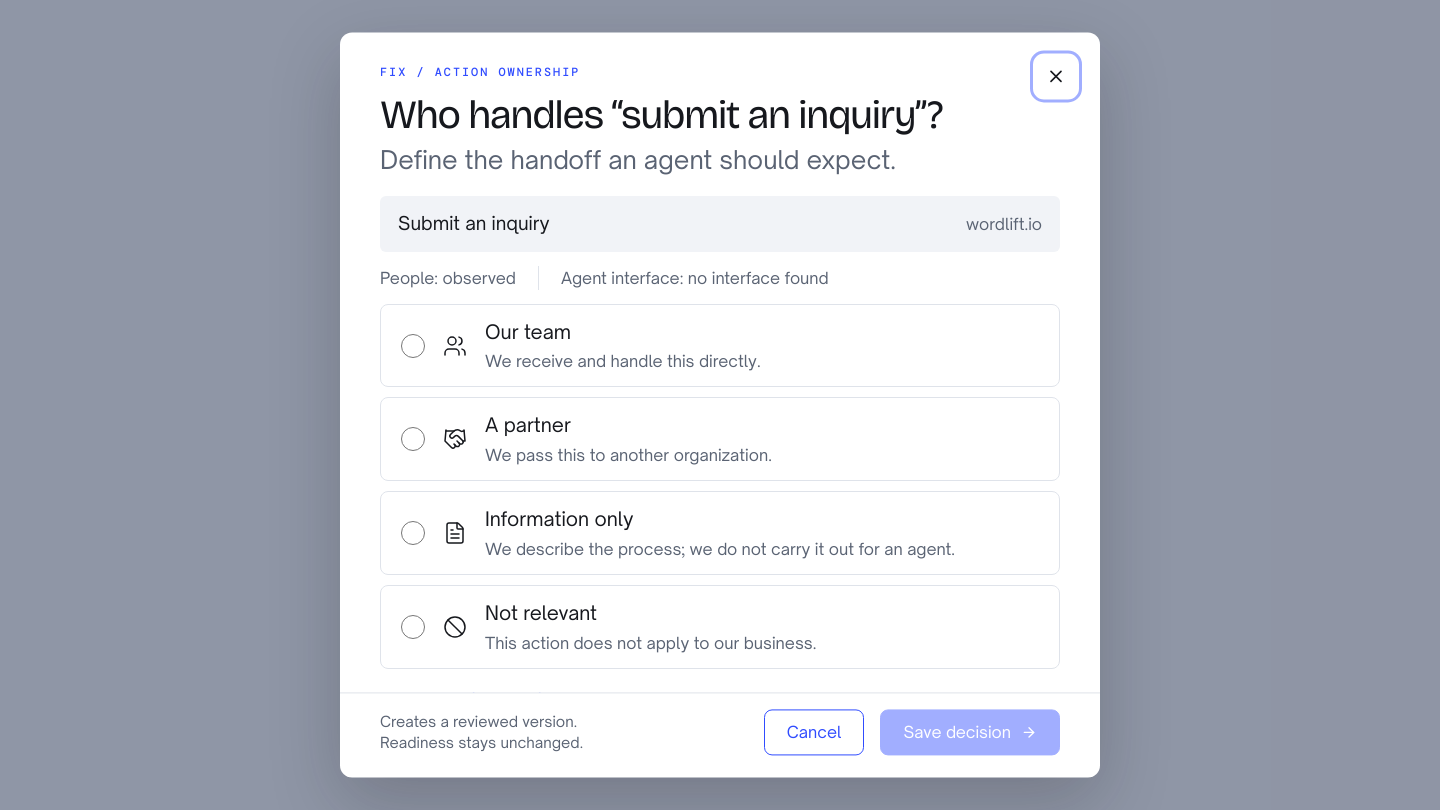
Test: action ownership › asks for the partner only when a partner is the answer, and requires the name
The image size is (1440, 810).
Expected: the field labelled "Partner name" is not shown
Click the radio button labelled "A partner We pass this to another organization." at point(413, 440), box [401,428,425,452]
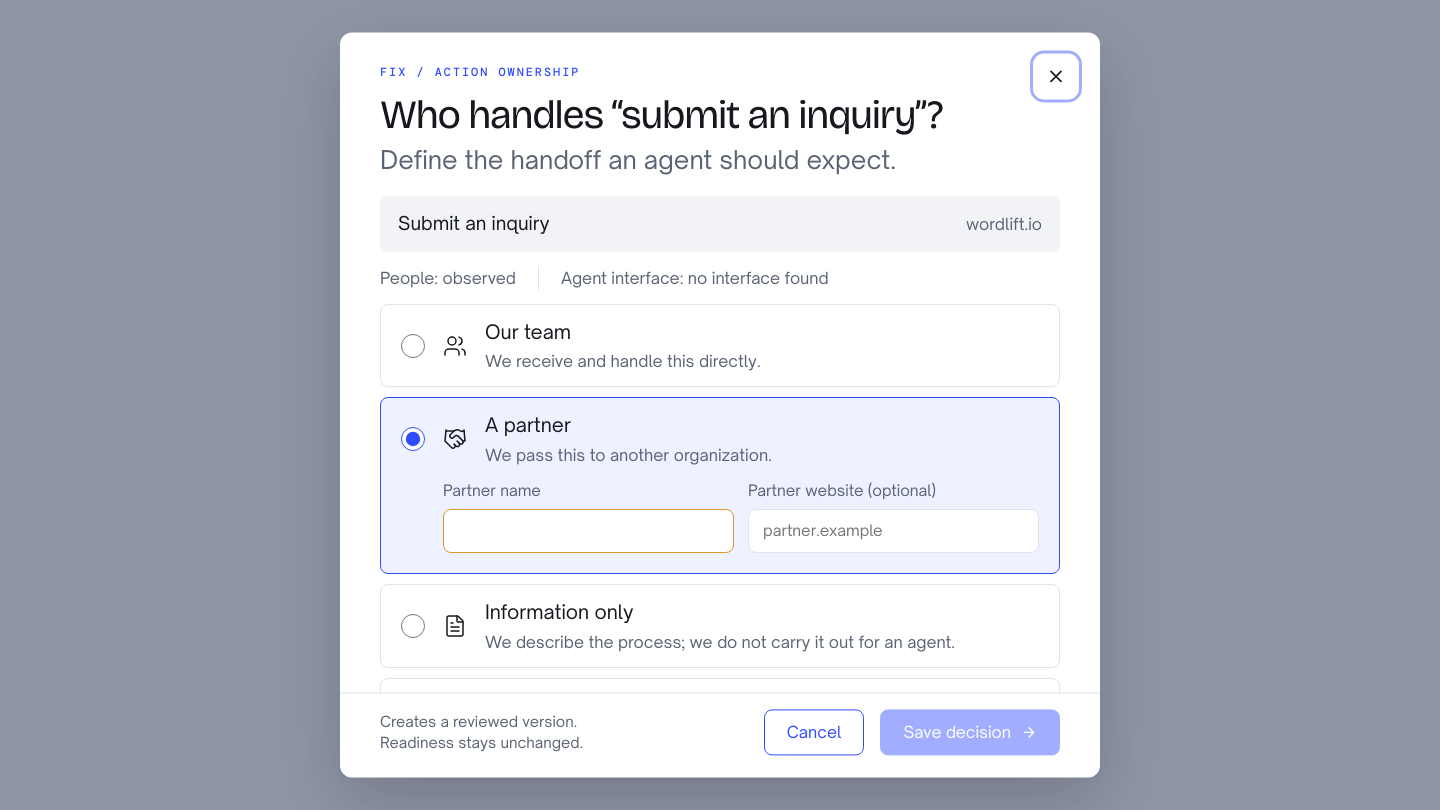
Expected: the button "Save decision" is disabled, [880,710,1060,756]
Type "Lungau Lodging" into the field labelled "Partner name" at point(588, 531), box [443,509,734,553]
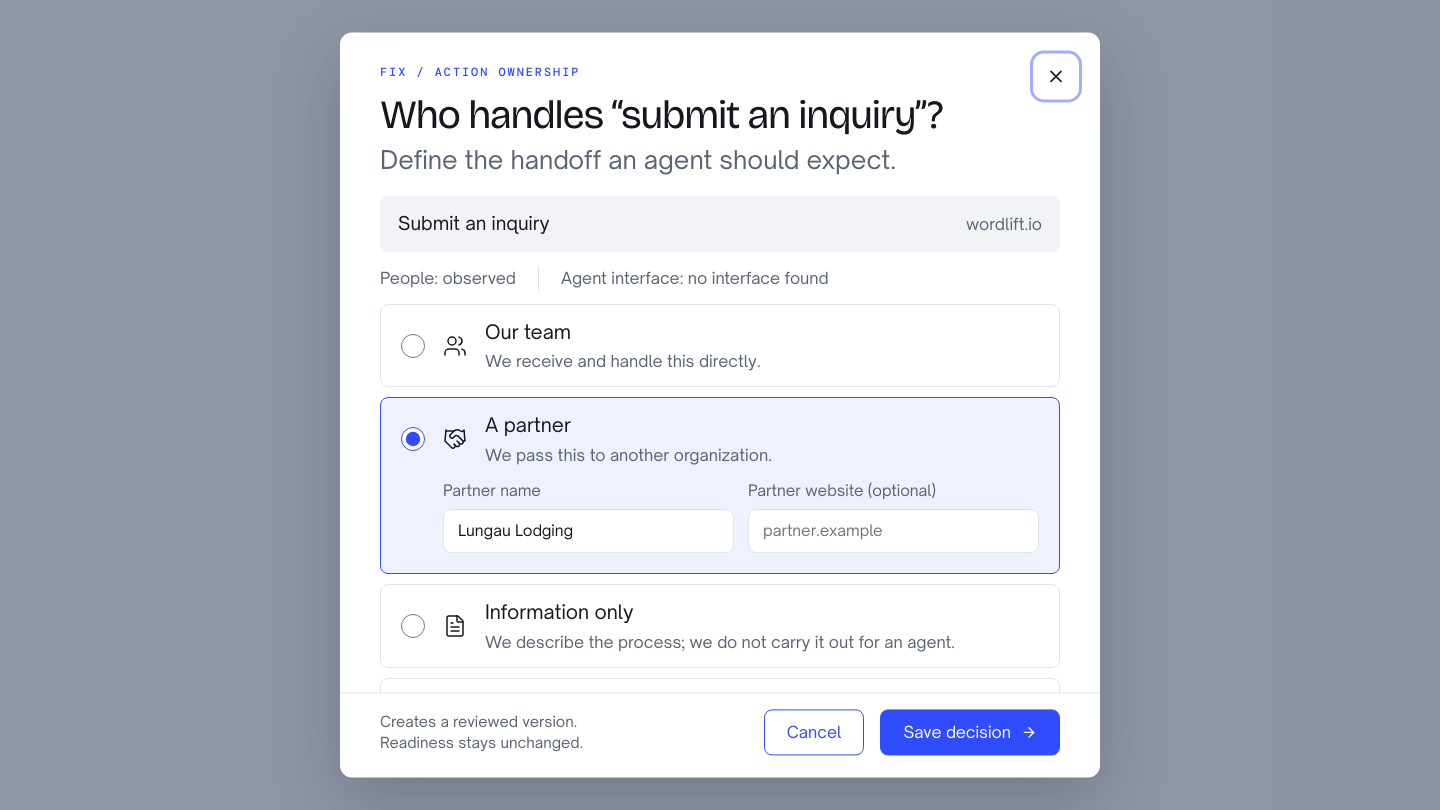
Result: the button "Save decision" is enabled at [880,710,1060,756]
Type "not a site" into the field labelled "Partner website (optional)" at point(894, 531), box [748,509,1039,553]
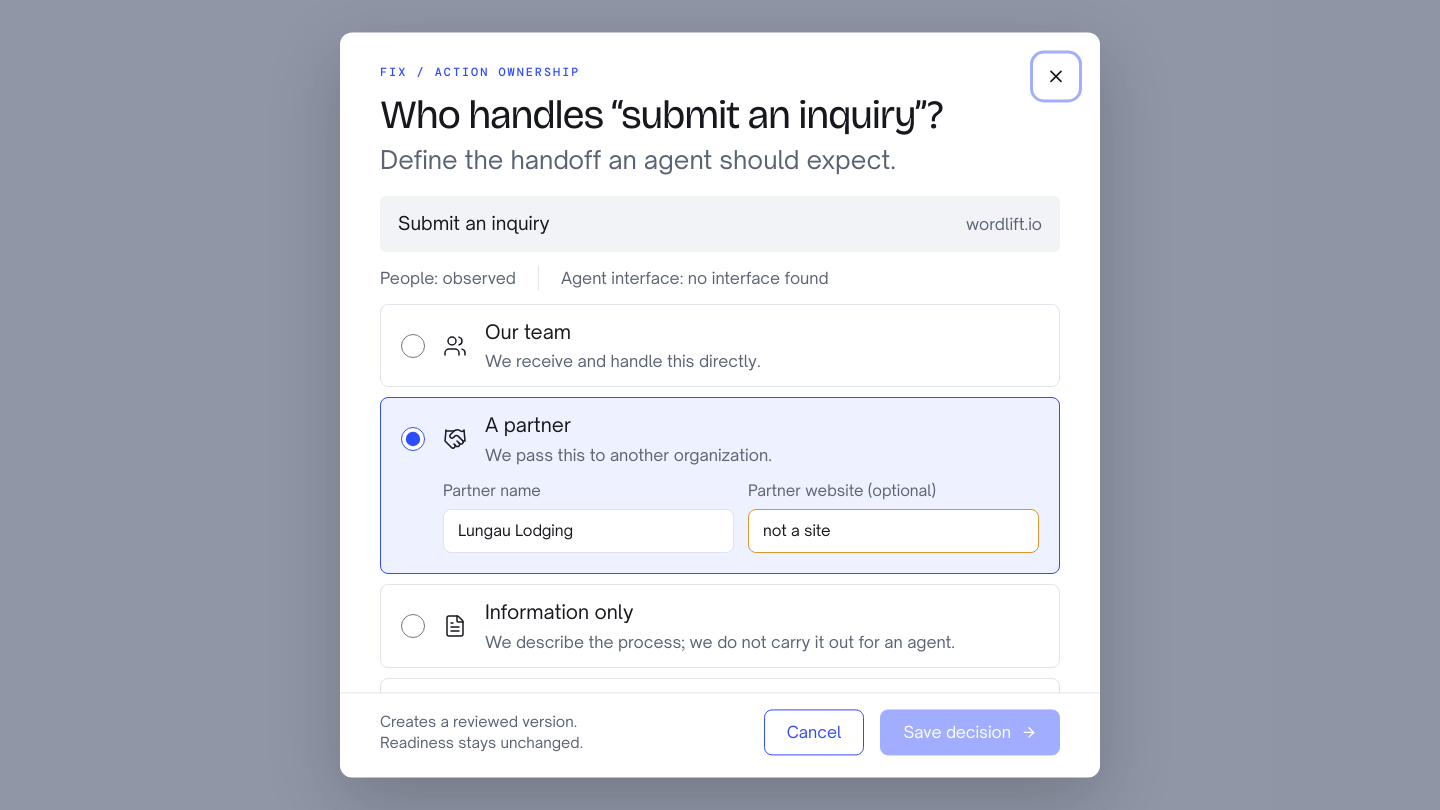
Result: the button "Save decision" is disabled at [880,710,1060,756]
Click the radio button labelled "Our team We receive and handle this directly." at point(413, 346), box [401,334,425,358]
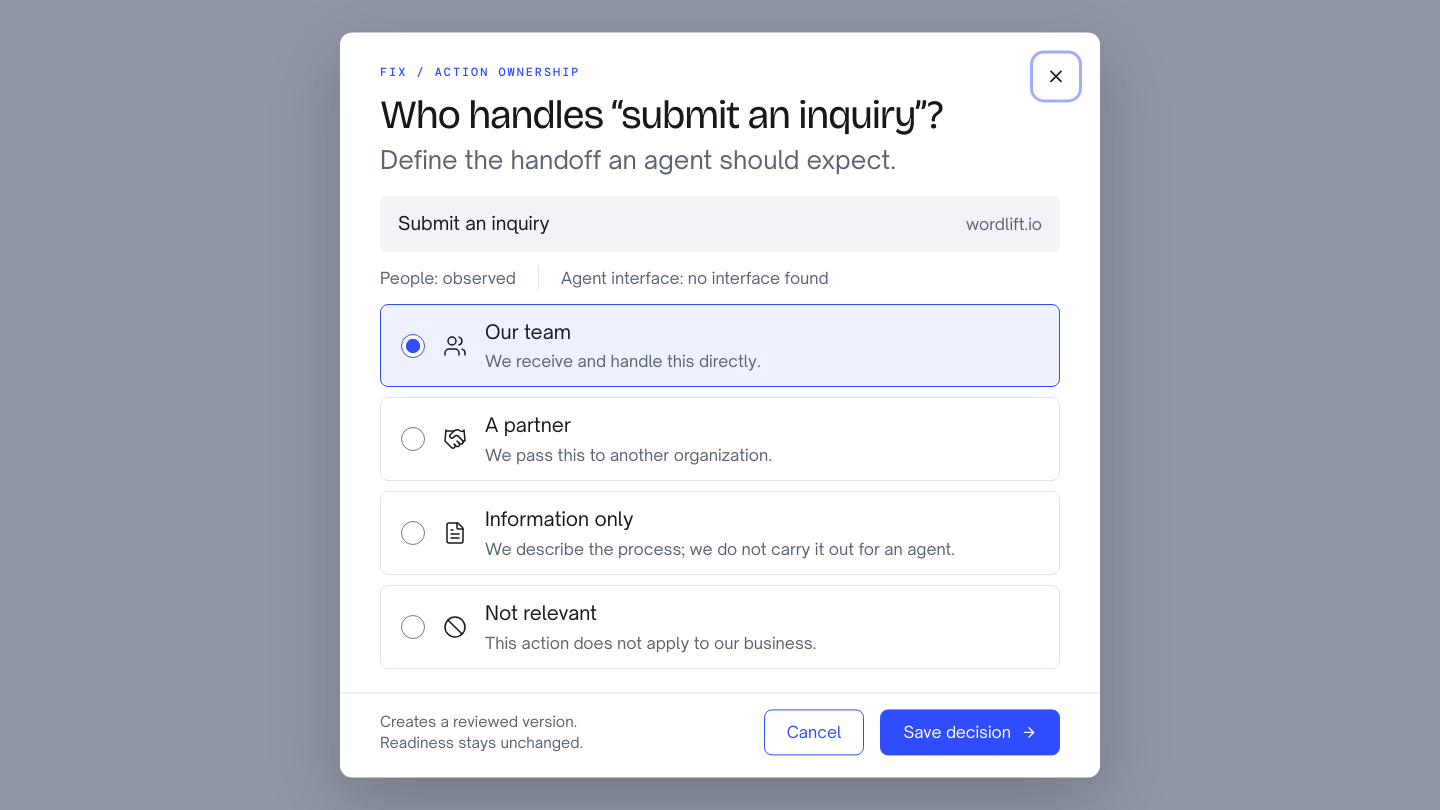
Result: the label labelled "Partner name" is gone
